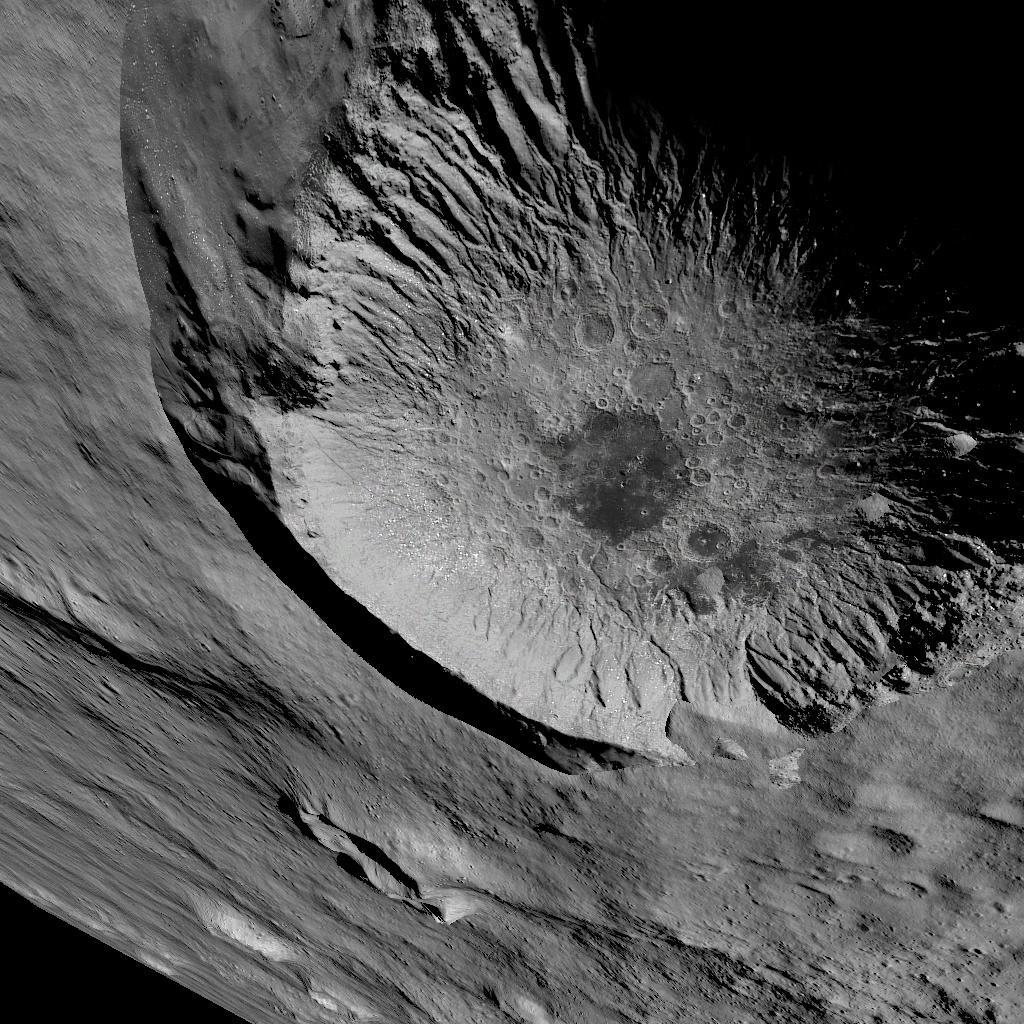Crater: (105, 0, 1024, 781), (266, 788, 440, 928)
Plan surface: (480, 804, 1019, 1022)
